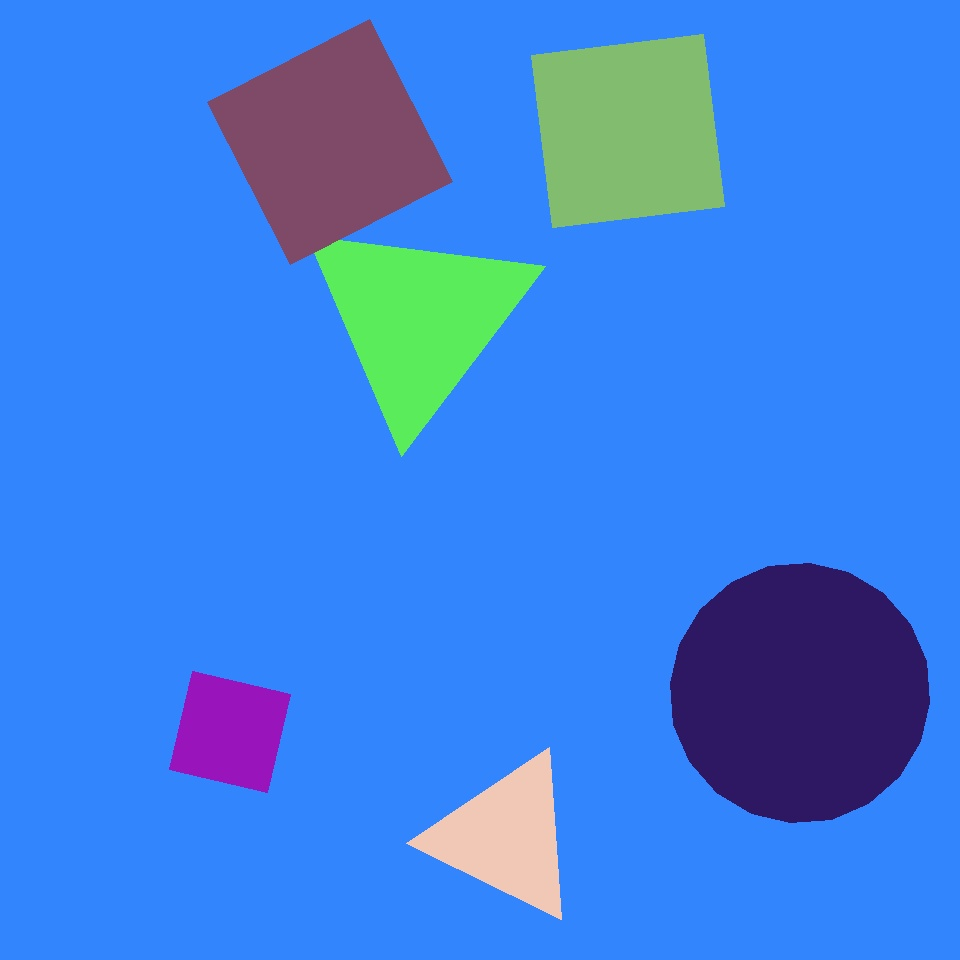circle: (299, 210, 537, 430), (428, 751, 584, 923)
square: (208, 20, 452, 264), (532, 34, 724, 228), (170, 672, 290, 792)
triangle: (670, 564, 930, 822)
